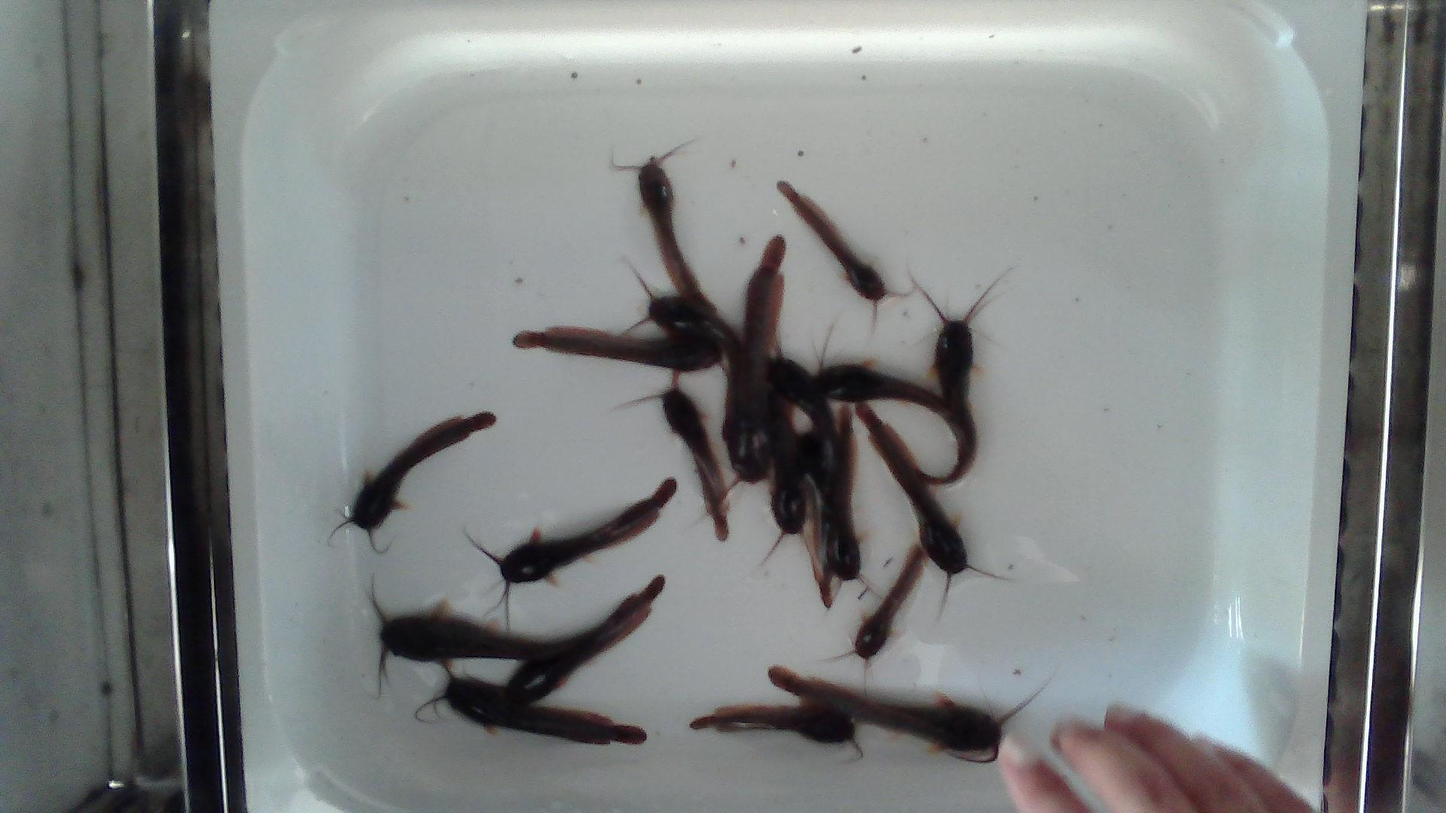lele: (372, 576, 664, 703), (856, 402, 1011, 623), (465, 478, 676, 627), (330, 411, 496, 553), (769, 668, 1014, 760), (623, 259, 739, 440), (412, 662, 649, 748), (776, 182, 905, 330), (612, 141, 716, 317), (922, 275, 1003, 484), (507, 598, 649, 704), (723, 236, 784, 480), (637, 380, 728, 540), (512, 324, 728, 388), (814, 325, 943, 421), (768, 354, 839, 491), (754, 394, 808, 571), (854, 544, 926, 659), (824, 408, 863, 581), (691, 704, 855, 744), (796, 430, 833, 607)
